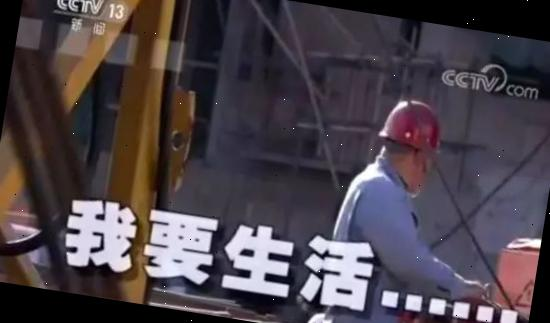helmet: (375, 94, 450, 159)
wear: (316, 174, 427, 323)
